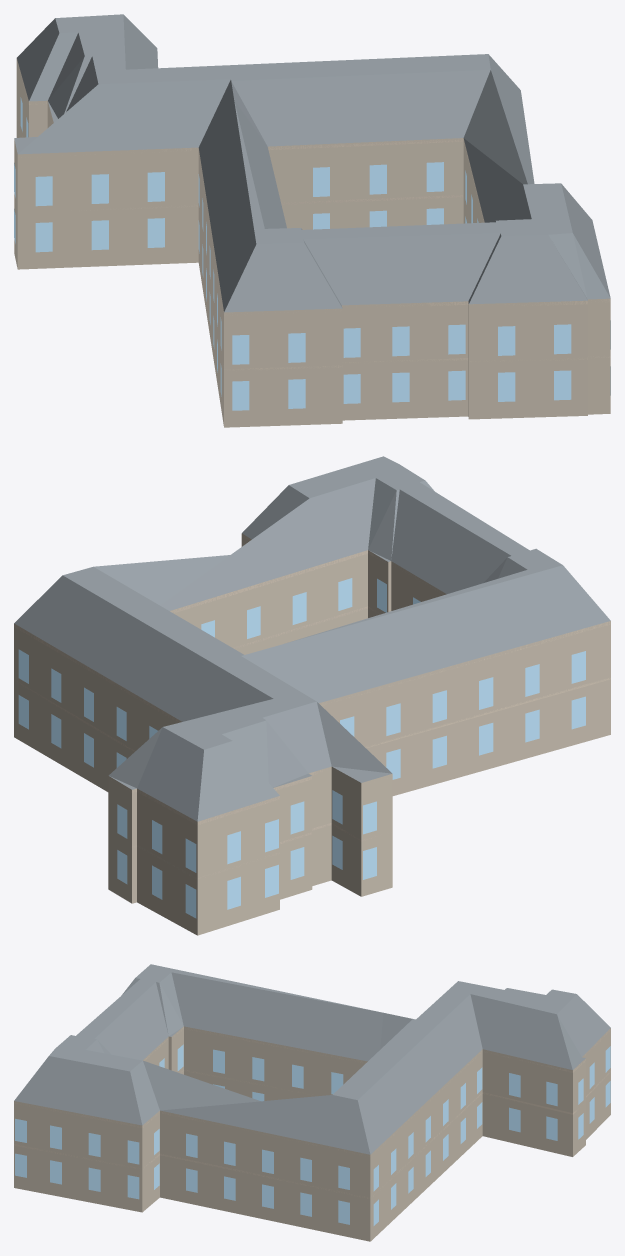
Rendered from detail.glb.
The picture shows the model from 3 angles, top to bottom: view 1: azimuth 30°, elevation 25°; view 2: azimuth 150°, elevation 25°; view 3: azimuth 270°, elevation 25°; orthographic projection. The views are drawn at different scales.
Parts seen in each view (by area): view 1: roof, stone, window, trim; view 2: roof, stone, window, trim; view 3: roof, stone, window, trim.
Boxes of the visible parts, x1=… form: roof: x1=14, y1=14, x2=610, y2=312; stone: x1=14, y1=59, x2=610, y2=427; window: x1=14, y1=97, x2=610, y2=410; trim: x1=14, y1=63, x2=610, y2=370; roof: x1=14, y1=456, x2=610, y2=821; stone: x1=14, y1=533, x2=610, y2=935; window: x1=18, y1=578, x2=585, y2=918; trim: x1=14, y1=533, x2=610, y2=879; roof: x1=14, y1=964, x2=610, y2=1154; stone: x1=14, y1=1026, x2=610, y2=1241; window: x1=15, y1=1044, x2=610, y2=1225; trim: x1=14, y1=1027, x2=610, y2=1198.
Size of the model in its own units: 44.99 by 16 by 68.4.
